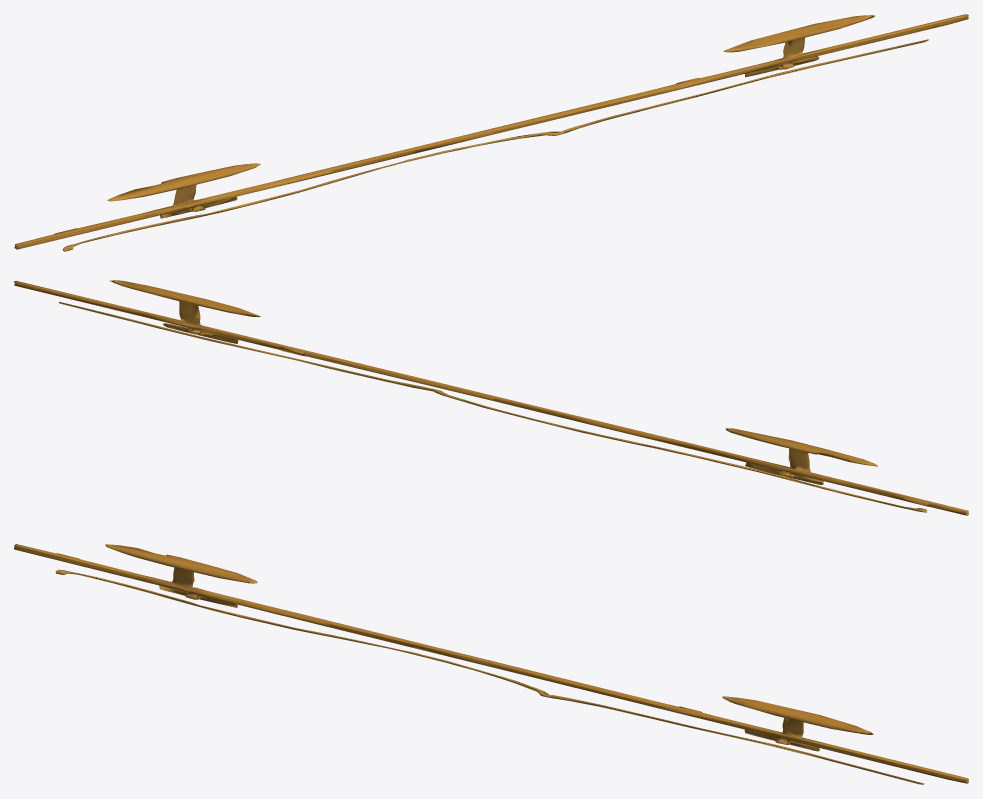
File: level1-brass-rail.glb
The picture shows the model from 3 angles, top to bottom: view 1: azimuth 30°, elevation 25°; view 2: azimuth 150°, elevation 25°; view 3: azimuth 330°, elevation 25°; orthographic projection.
Parts seen in each view (by area): view 1: tripo_node_e85a4a13-137f-45e6-a41e-7d68853f2968; view 2: tripo_node_e85a4a13-137f-45e6-a41e-7d68853f2968; view 3: tripo_node_e85a4a13-137f-45e6-a41e-7d68853f2968.
Part boxes in pixels (box(x1,y1,x2,y2)): tripo_node_e85a4a13-137f-45e6-a41e-7d68853f2968: box(14, 14, 968, 251); tripo_node_e85a4a13-137f-45e6-a41e-7d68853f2968: box(14, 280, 968, 515); tripo_node_e85a4a13-137f-45e6-a41e-7d68853f2968: box(14, 544, 968, 784).
Bounding box in the file's own units: 9.99 × 0.4175 × 0.2181.
1 material, 1 textured.
